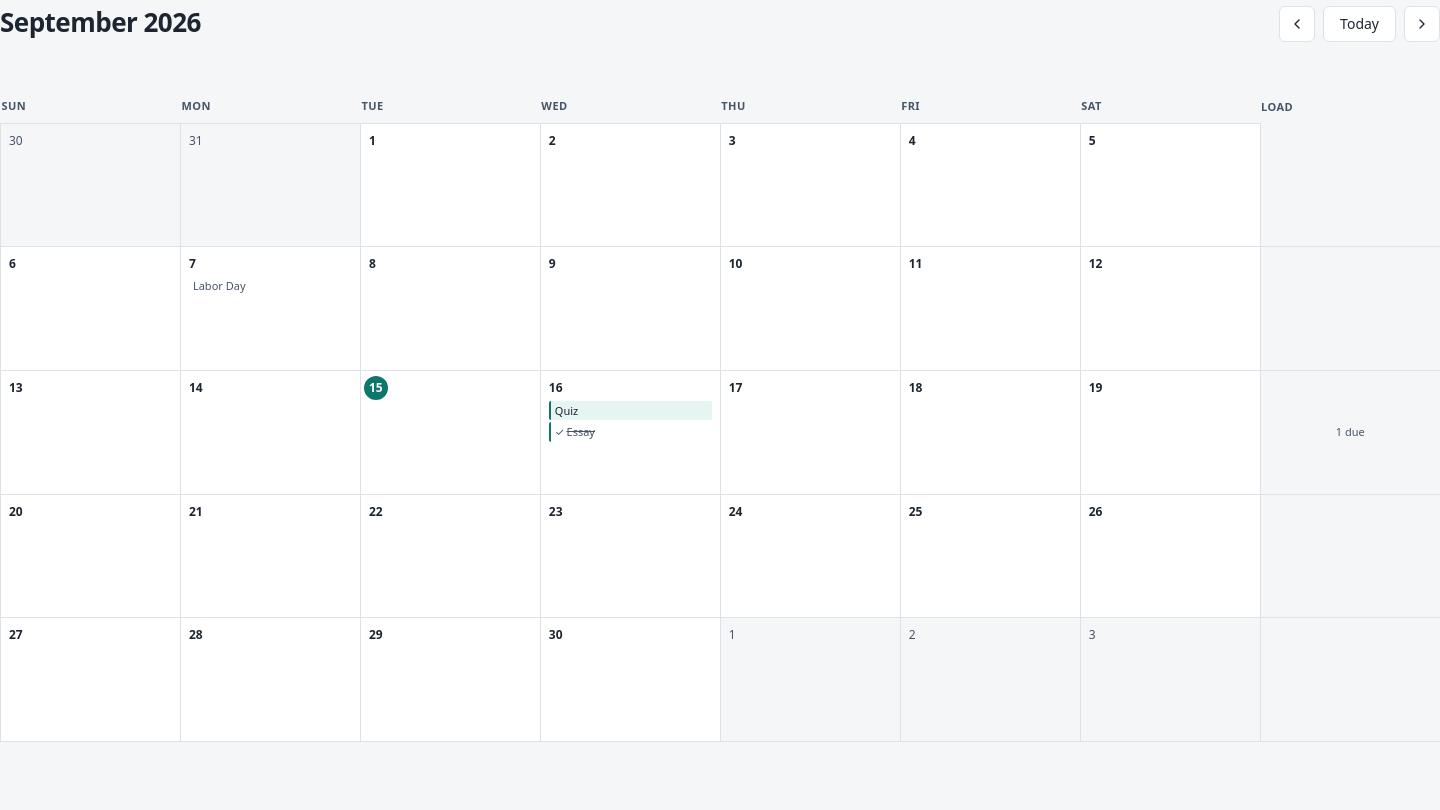
it: AC-75.4 the open day lists finished items under the open ones
Click the button "Quiz": (630, 411) [549,401,712,420]
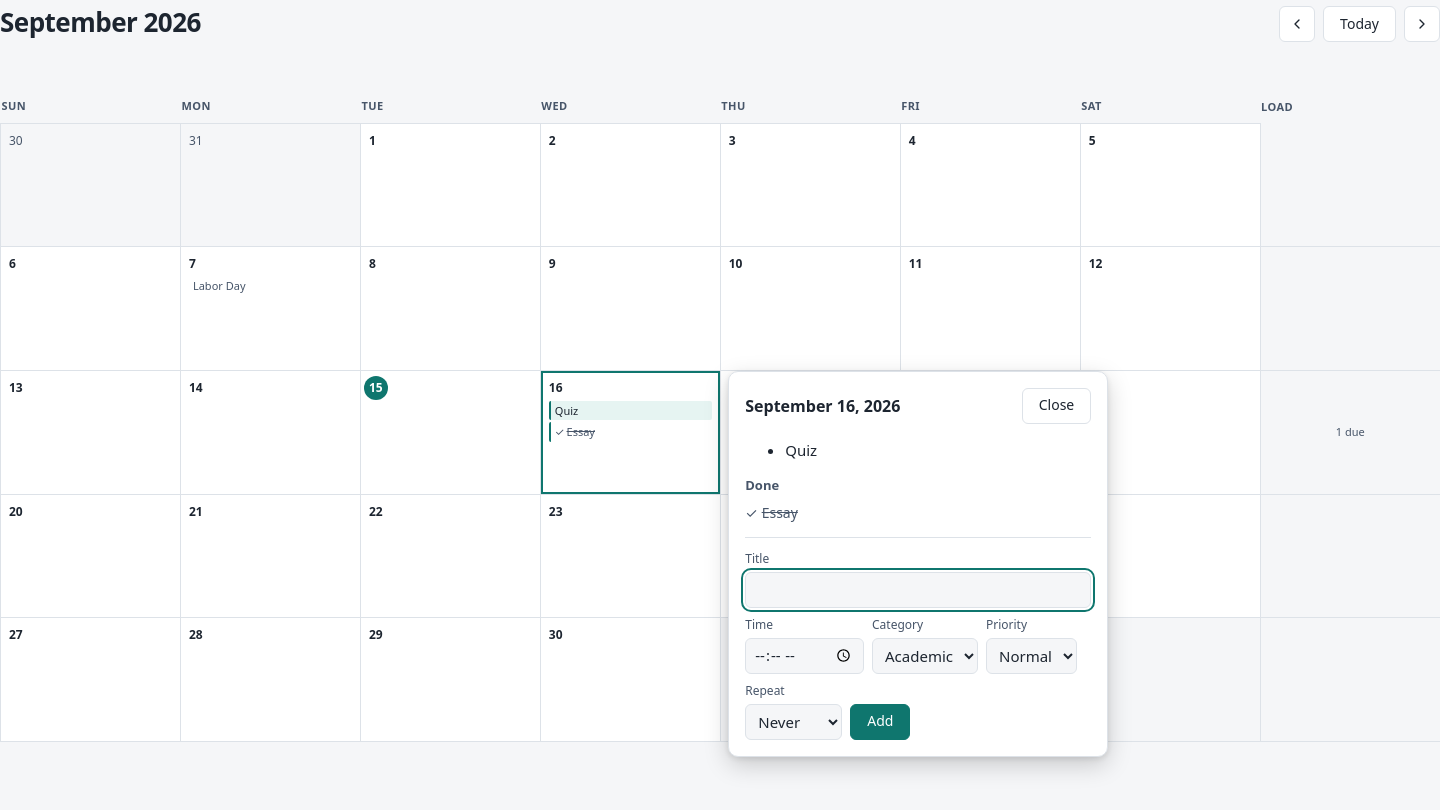
Result: the list item "Quiz" is shown at [785,440,817,460]
Result: the list named "Done" reads "Essay" at [762,503,798,522]
